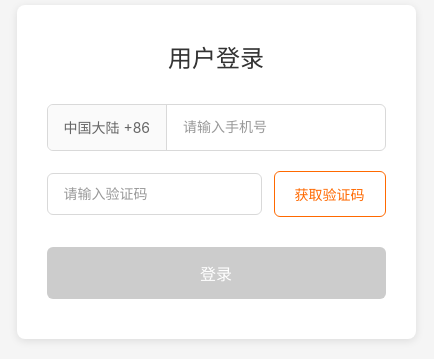
it: LoginForm Component › 输入有效手机号和验证码后登录按钮应该可用
This screenshot has width=434, height=359.
Type "13812345678" into the field with test id "phone-input". click: x=274, y=127
box: [167,107,380,147]
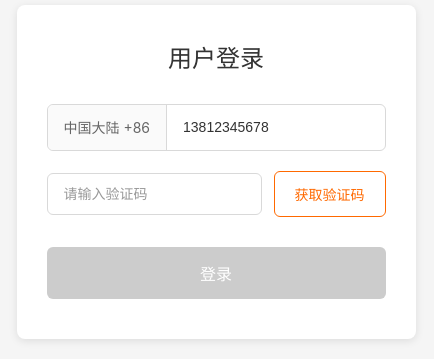
Type "123456" into the field with test id "verification-code-input". click: x=154, y=194
box: [46,173,262,215]
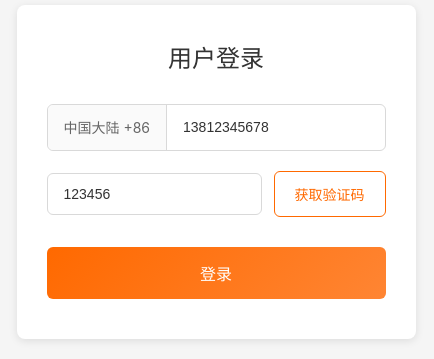
Result: the button with test id "login-submit-button" is enabled at [46,247,386,299]
